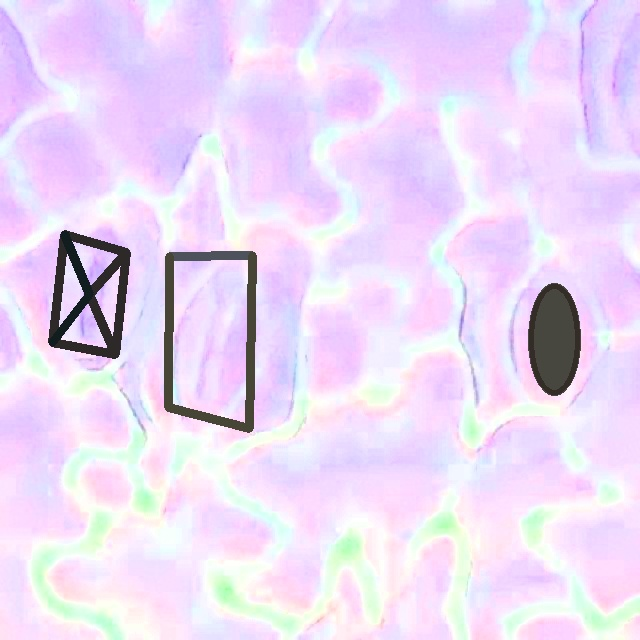open: (165, 252, 256, 431), (48, 231, 130, 357), (527, 283, 580, 395)
